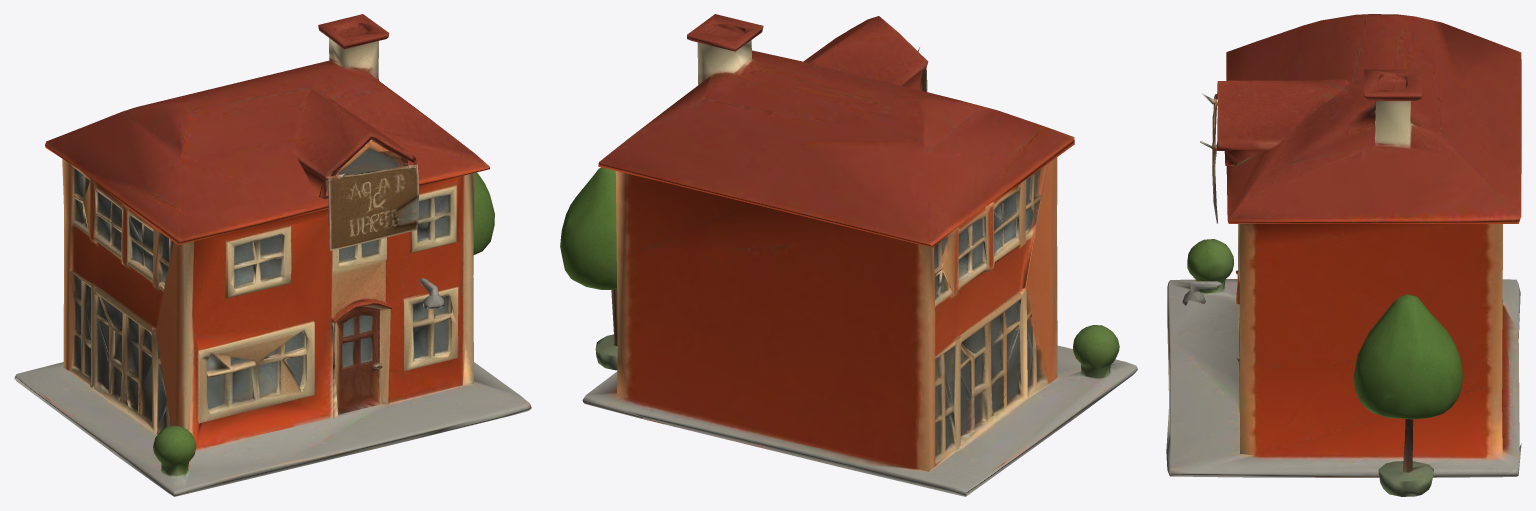
File: hotel.glb
3 renders of one model, left to right at view 1: azimuth 30°, elevation 25°; view 2: azimuth 150°, elevation 25°; view 3: azimuth 270°, elevation 25°, orthographic. The views are drawn at different scales.
Size of the model in its own units: 1.89 by 1.39 by 1.25.
Materials: 1 (1 with a texture image).
